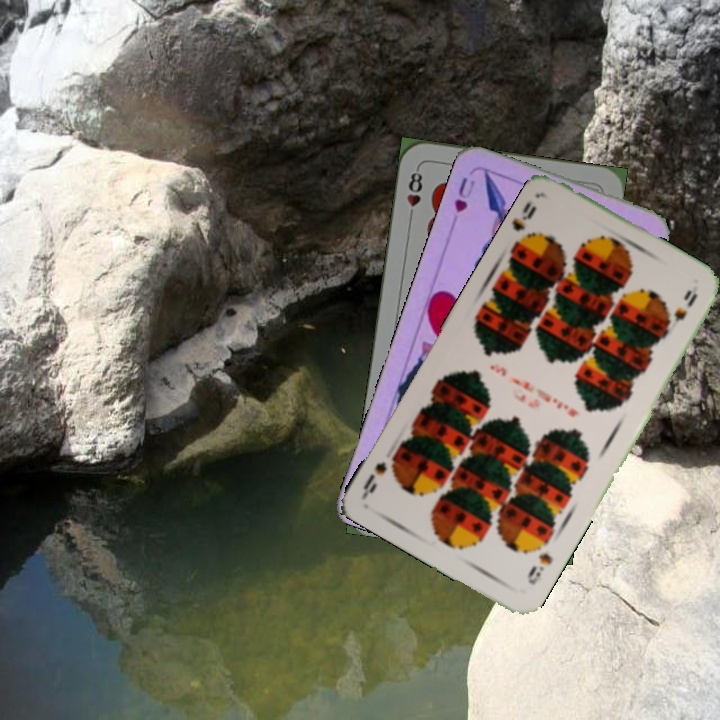H8: (403, 164, 425, 223)
HU: (450, 173, 478, 216)
S9: (523, 549, 556, 588), (508, 197, 539, 234)
